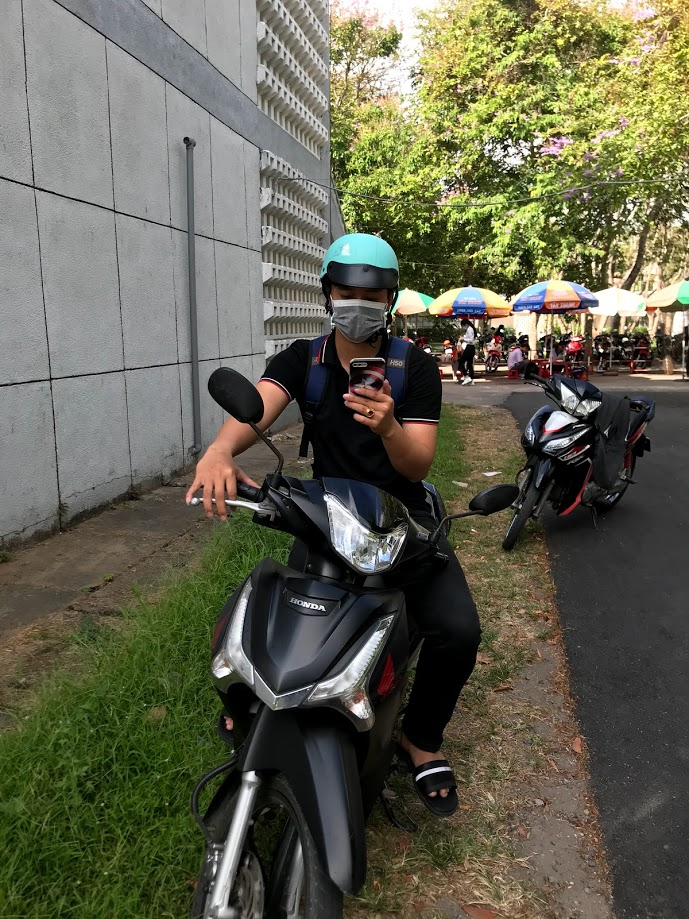dieu khien xe may: (194, 231, 444, 746)
su dung dien thoai: (320, 235, 416, 439)
